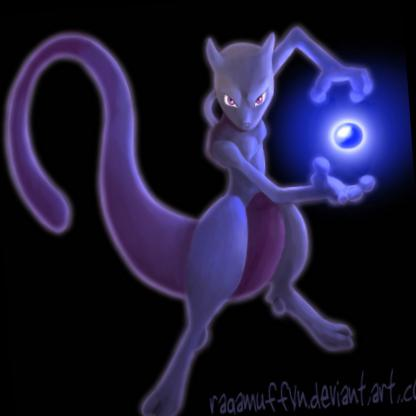Mewtwo: (1, 1, 416, 410)
